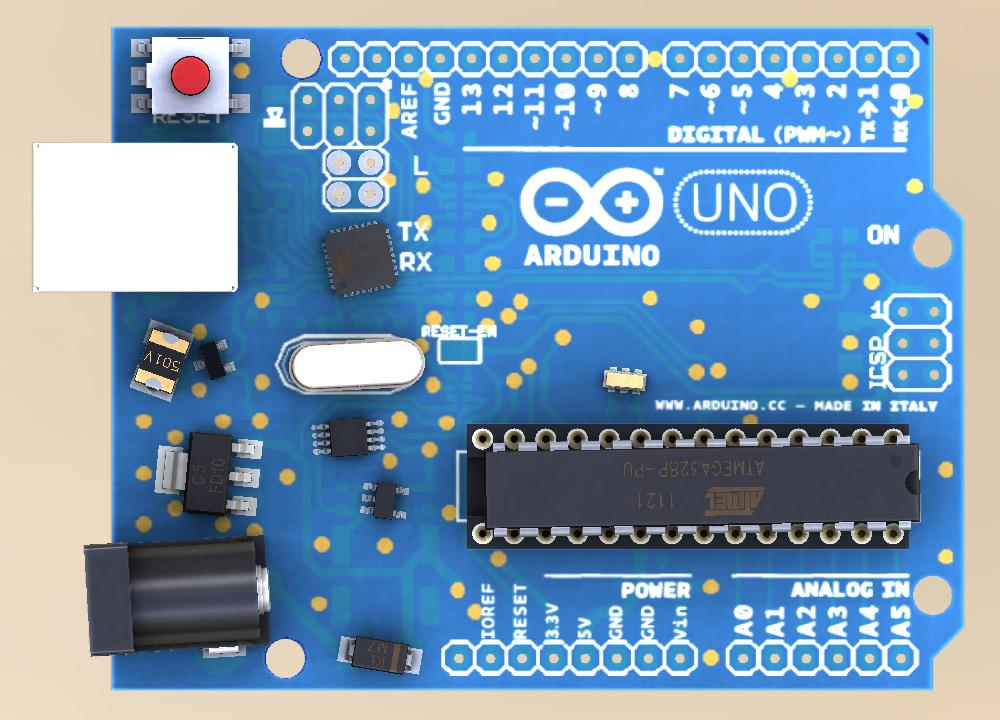16MHz Crystal: (597, 357, 651, 402)
ATMEL328P: (469, 420, 919, 546)
ATMega16u2: (317, 219, 402, 299)
Crystal: (274, 330, 426, 398)
Fuse: (129, 314, 191, 405)
LMV358: (354, 471, 416, 526)
M7 diode: (334, 624, 427, 682)
Power: (76, 531, 272, 663)
Regulator: (136, 414, 279, 535)
Reset: (127, 37, 251, 121)
SSOT3: (193, 333, 235, 386)
USB: (31, 139, 245, 299)
lp2985: (303, 410, 392, 459)
